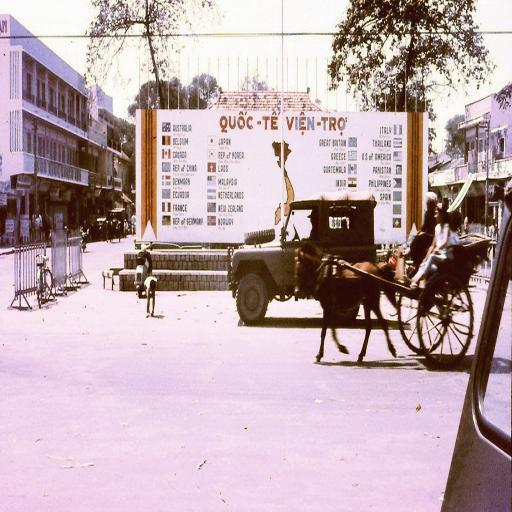horse: (294, 242, 402, 366)
